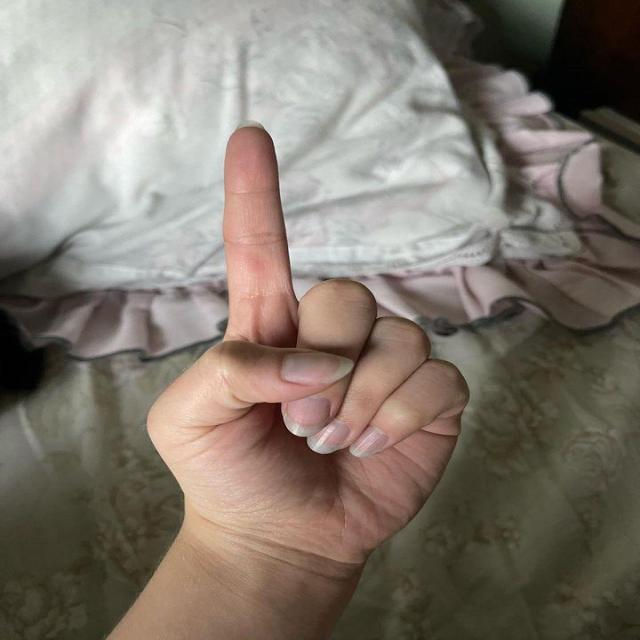D: (138, 120, 471, 536)
